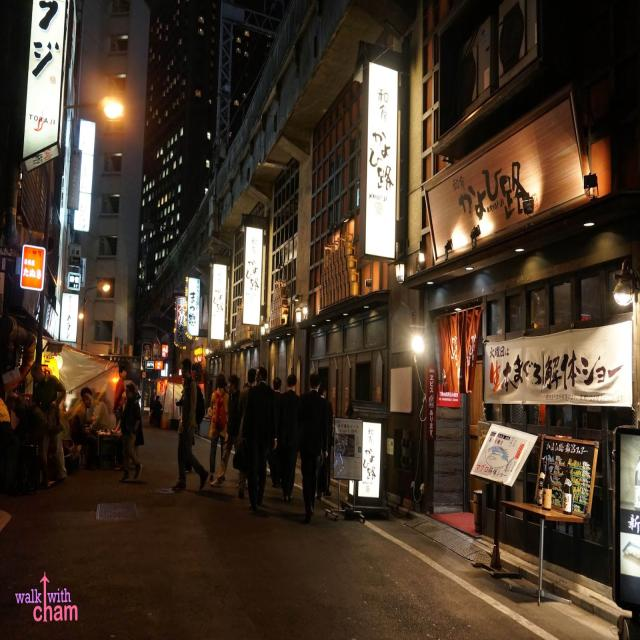body: (240, 365, 278, 513), (28, 359, 68, 488), (171, 358, 209, 492), (0, 387, 48, 484), (298, 370, 326, 526), (209, 373, 241, 488), (276, 373, 302, 504), (118, 379, 146, 484), (236, 367, 257, 501), (176, 376, 201, 478), (70, 392, 101, 470), (208, 372, 230, 481), (315, 384, 334, 502), (110, 365, 128, 470), (70, 386, 97, 426), (92, 387, 112, 429), (58, 386, 75, 434), (272, 376, 283, 442), (163, 390, 179, 431), (153, 395, 163, 429), (122, 389, 128, 435), (133, 383, 142, 403), (149, 393, 157, 415), (243, 381, 251, 394), (150, 387, 156, 397)
